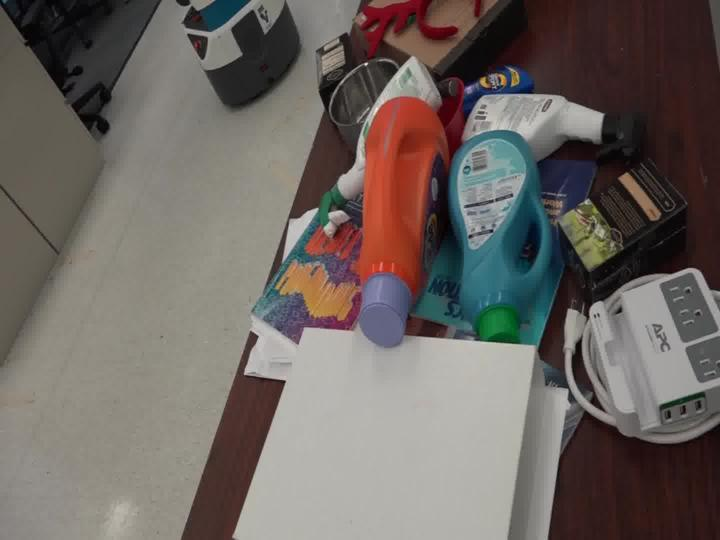tide: (351, 78, 457, 350)
